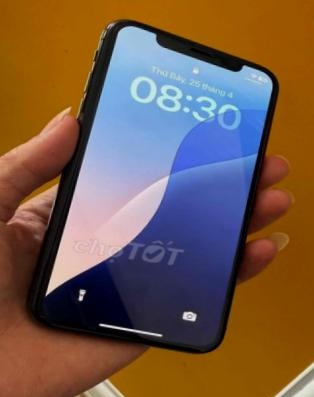scratch: (36, 307, 55, 325)
